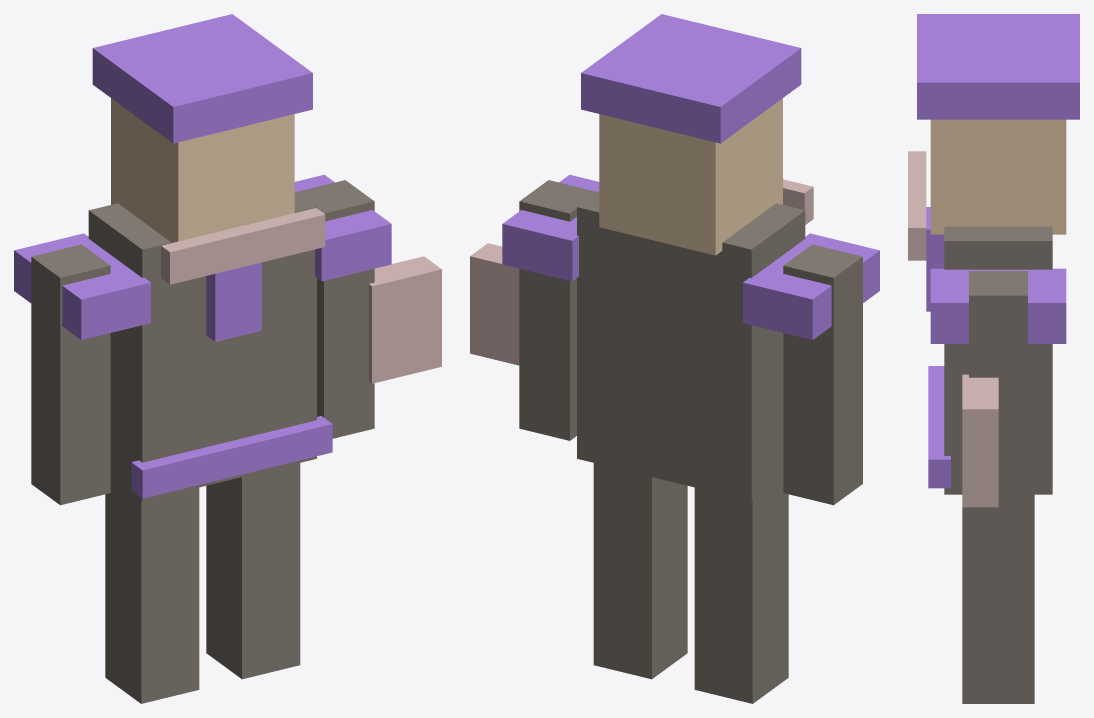
Rendered from 10_ilyra_runeclasp_ranger_at_forkkeeper.glb.
The picture shows the model from 3 angles, left to right: view 1: azimuth 30°, elevation 25°; view 2: azimuth 150°, elevation 25°; view 3: azimuth 270°, elevation 25°; orthographic projection.
Visible parts, largest first — view 1: Ilyra Runeclasp, Ranger at Forkkeeper; view 2: Ilyra Runeclasp, Ranger at Forkkeeper; view 3: Ilyra Runeclasp, Ranger at Forkkeeper.
Part boxes in pixels (x1,y1,x2,y2): Ilyra Runeclasp, Ranger at Forkkeeper: [14, 14, 441, 703]; Ilyra Runeclasp, Ranger at Forkkeeper: [470, 14, 879, 703]; Ilyra Runeclasp, Ranger at Forkkeeper: [908, 14, 1079, 703].
Bounding box in the file's own units: 0.9535 × 1.47 × 0.3716.
